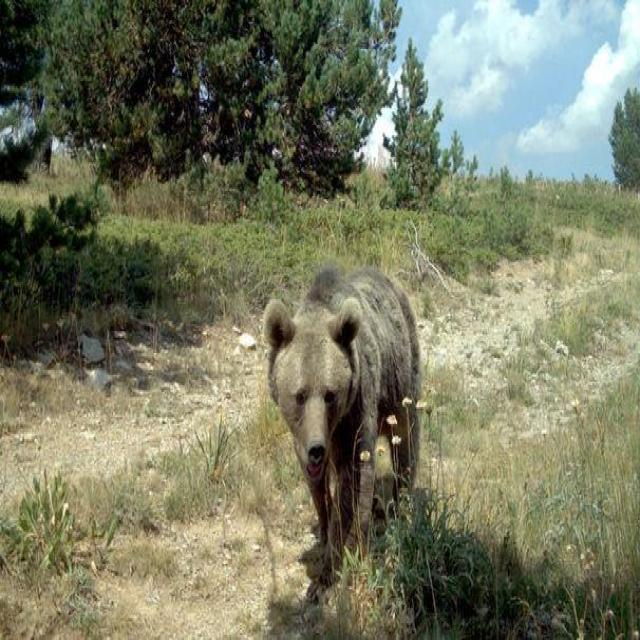Bear: (259, 268, 422, 589)
